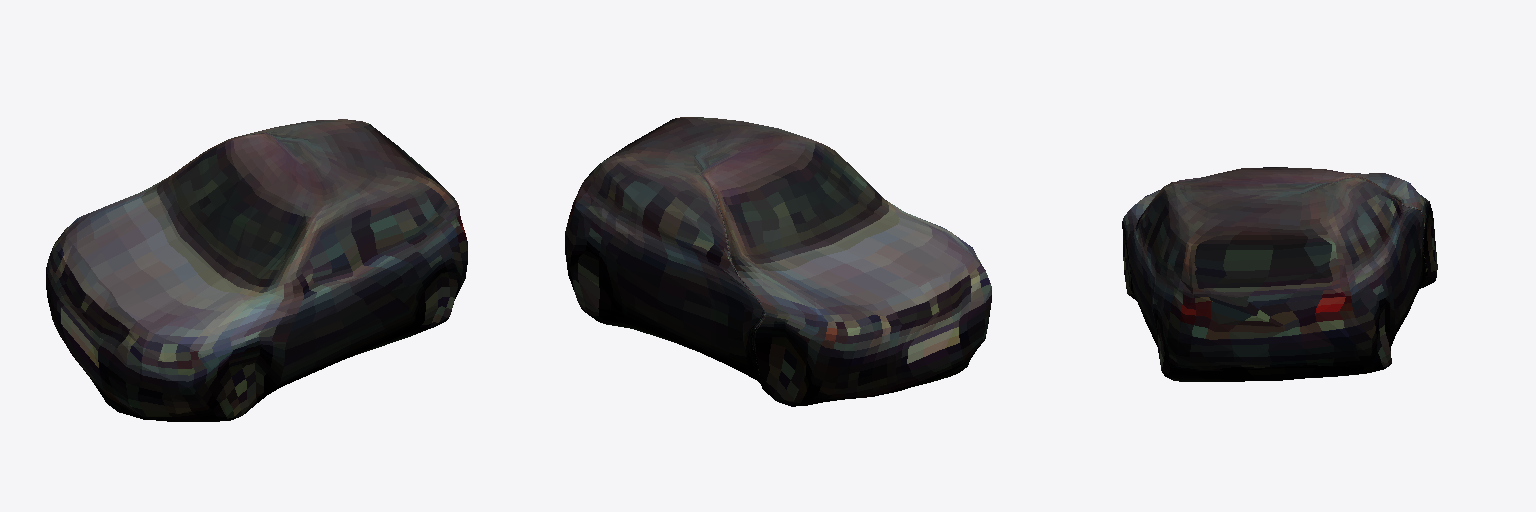
3 renders of one model, left to right at view 1: azimuth 30°, elevation 25°; view 2: azimuth 150°, elevation 25°; view 3: azimuth 270°, elevation 25°, orthographic.
Size of the model in its own units: 1 by 0.5168 by 0.7814.
1 materials, 1 textured.